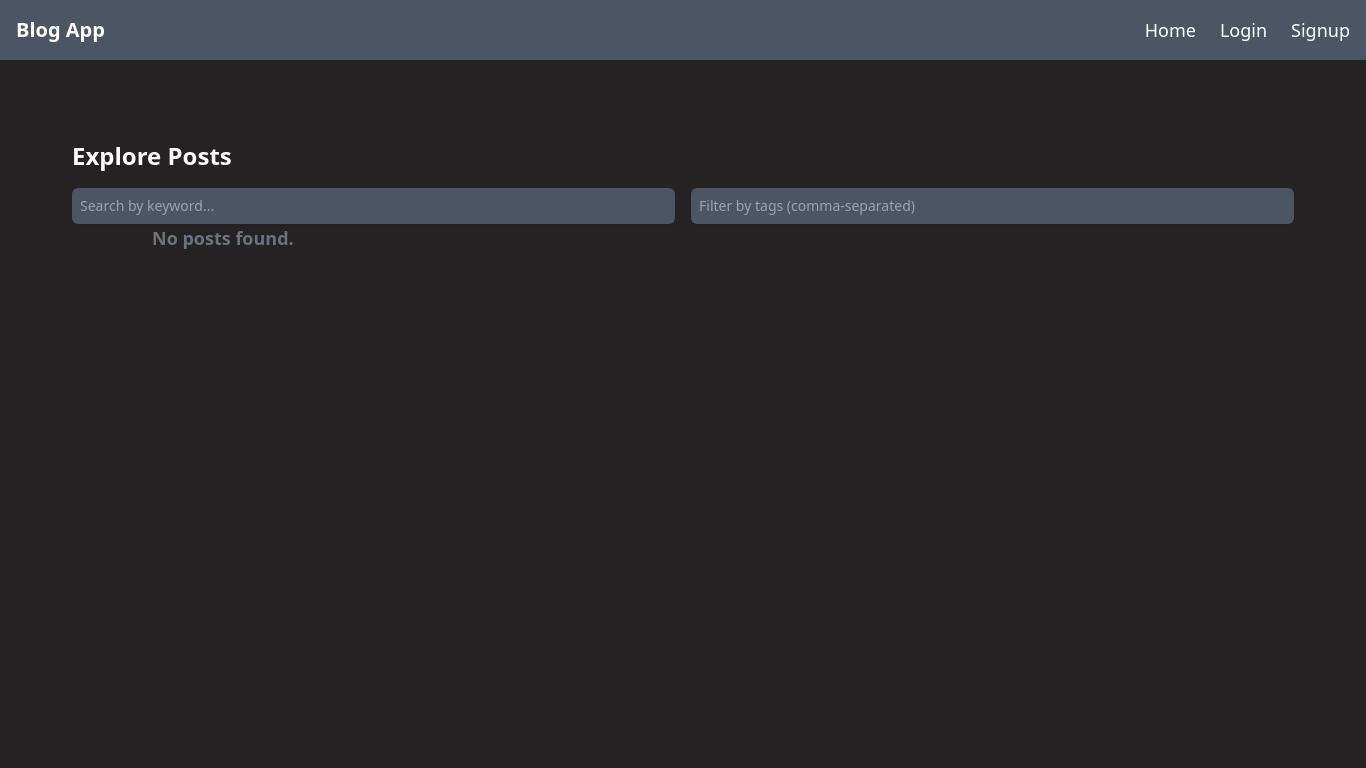
Blog App Frontend Tests › Should have an option to signup with google
This screenshot has width=1366, height=768.
Click the link "Signup" at (1321, 30), box top-left (1291, 16), bottom-right (1350, 44)
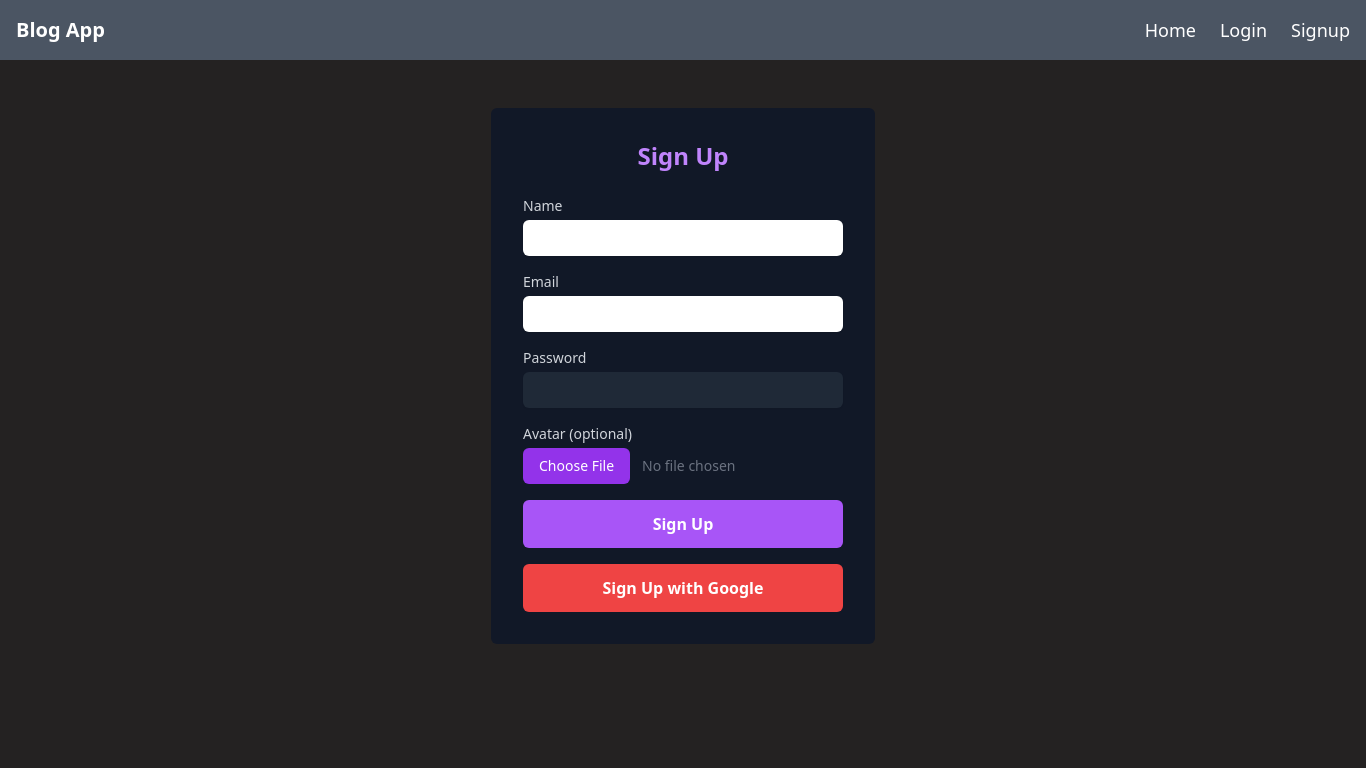
Now the heading "Sign Up" is shown, box top-left (638, 139), bottom-right (729, 172)
Now the button "Sign Up with Google" is shown, box top-left (523, 564), bottom-right (843, 612)
